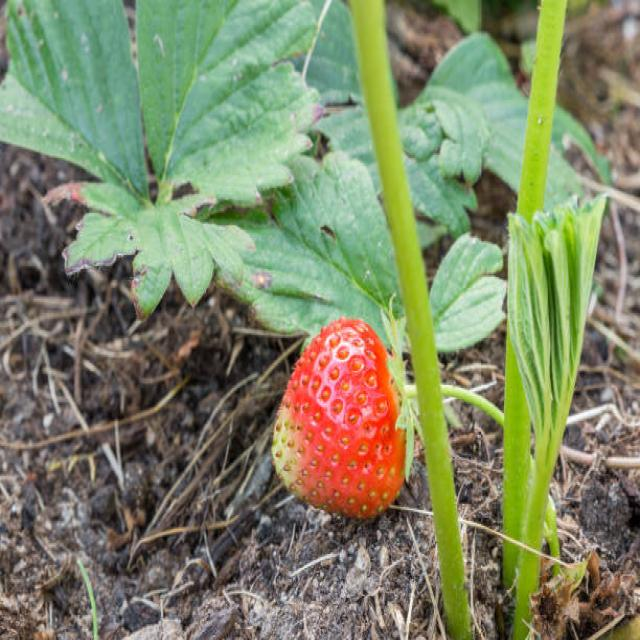Healthy Fruit: (273, 317, 405, 518)
